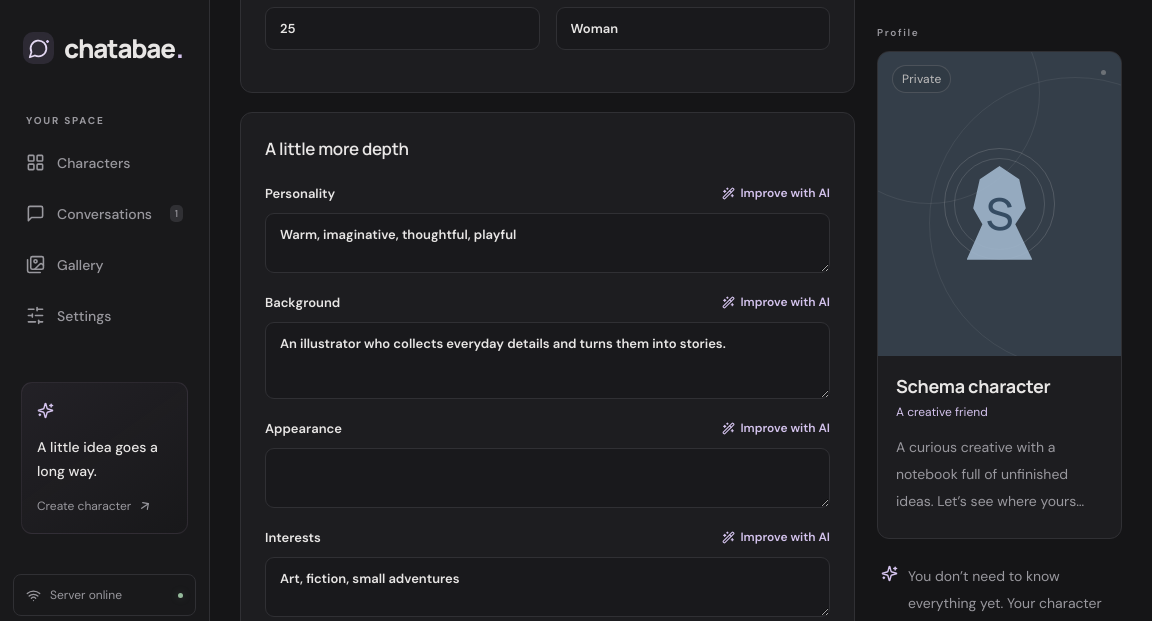
it: character space › applies a field improvement while preserving other unsaved profile edits
(page scrolled)
Replace the text in the text box named "Background" with "An unsaved background." at (548, 361), box [265,322,830,400]
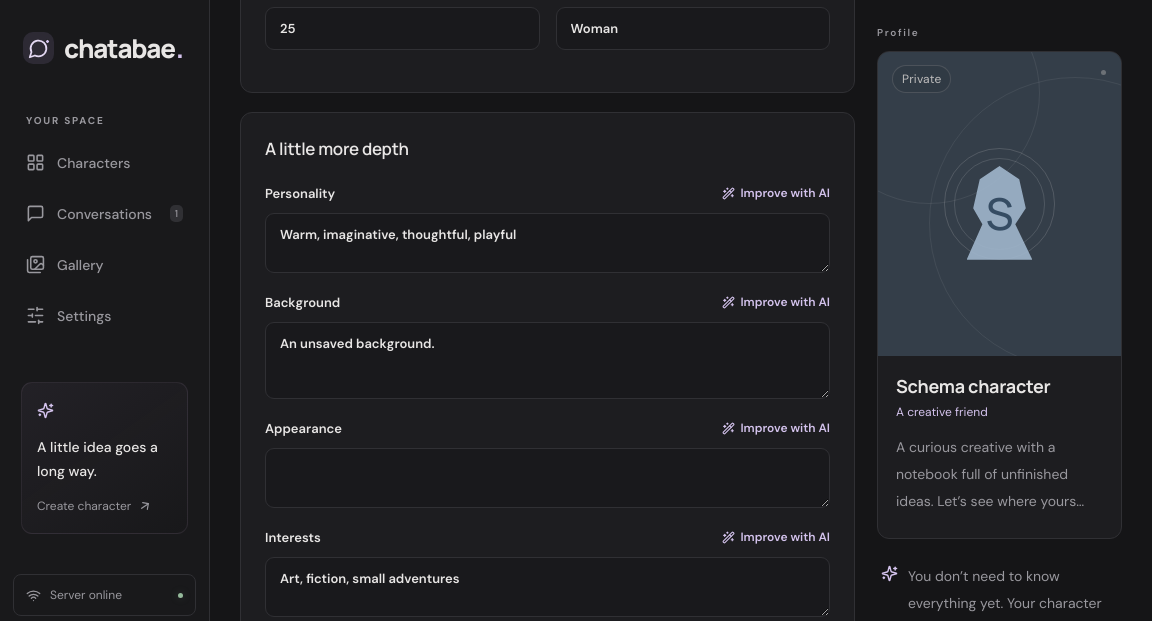
Click the button with aria-label "Improve with AI: Personality".
click(776, 194)  # box [722,182,830,204]
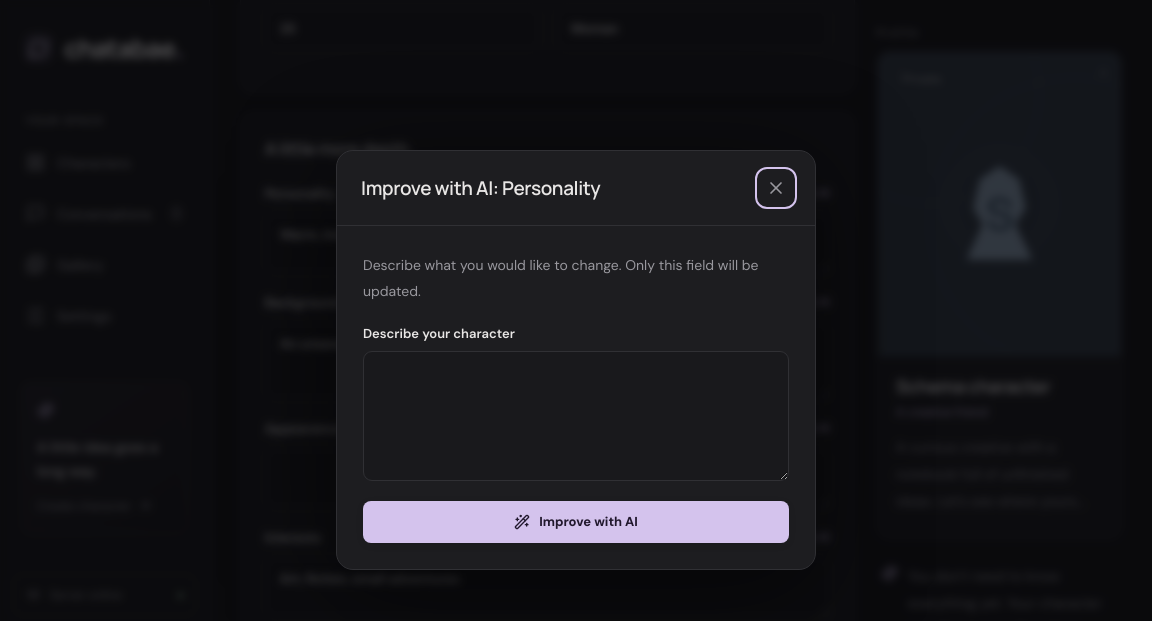
Type "Make them calmer." into the text box labelled "Describe your character".
click(576, 416); type("Make them calmer.")  # box [363,351,789,481]
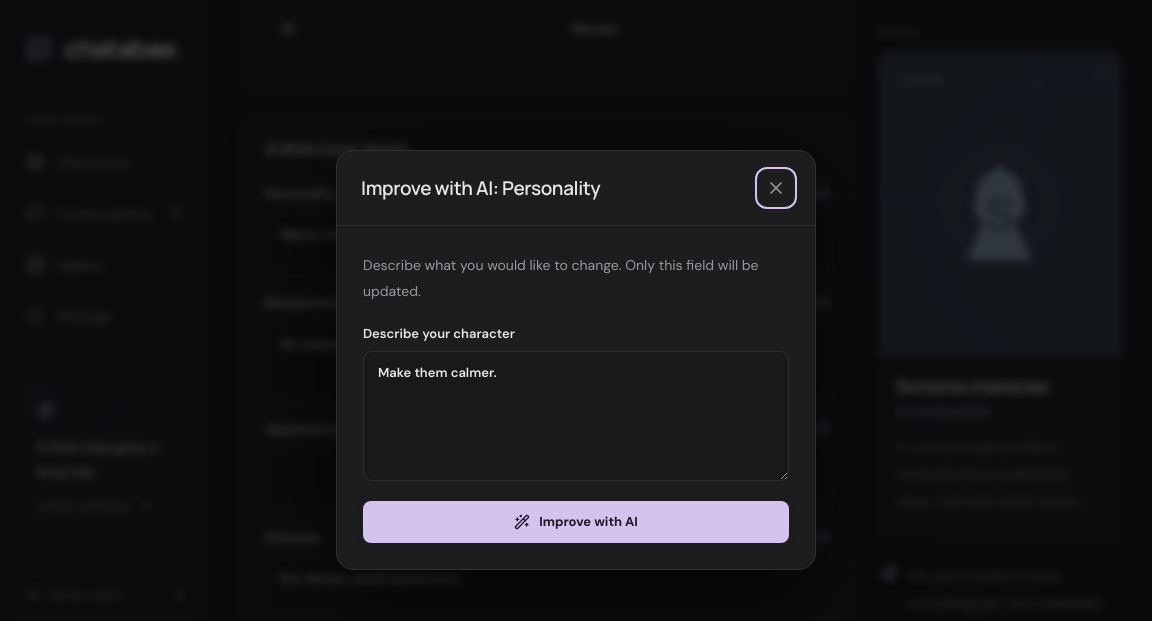
Click the button "Improve with AI".
click(576, 522)  # box [363,501,789,543]
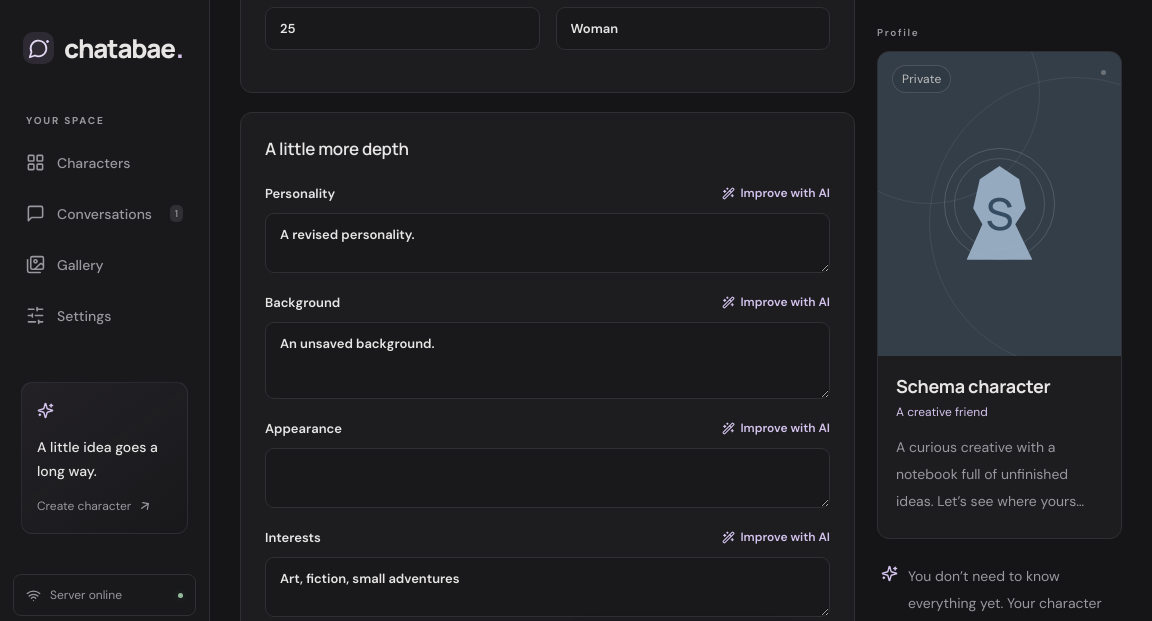
Expected: the text box named "Personality" holds "A revised personality.", [265,214,830,274]
